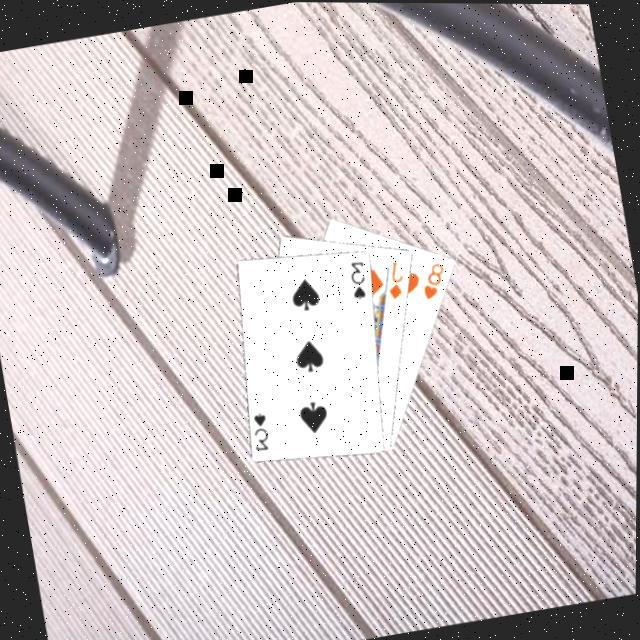3S: (343, 255, 370, 301), (245, 407, 272, 453)
8H: (413, 256, 450, 302)
JD: (379, 255, 408, 301)
